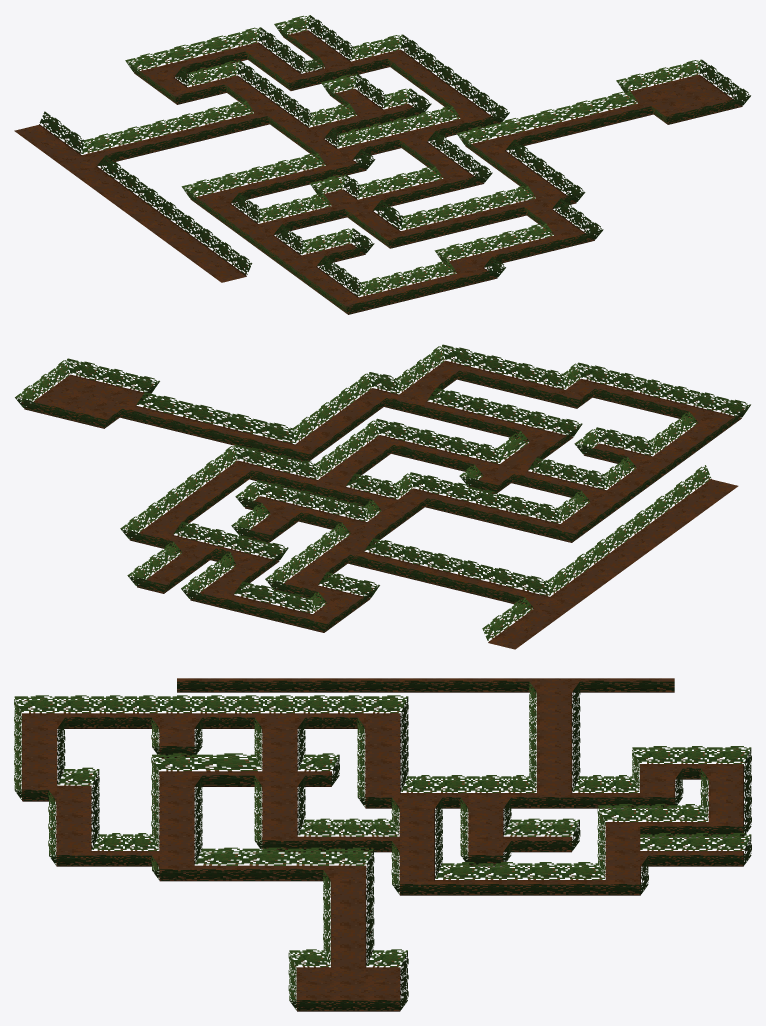
The model's file is maze.glb.
3 renders of one model, top to bottom at view 1: azimuth 30°, elevation 25°; view 2: azimuth 150°, elevation 25°; view 3: azimuth 270°, elevation 25°, orthographic. The views are drawn at different scales.
Parts seen in each view (by area): view 1: maze-col; view 2: maze-col; view 3: maze-col.
Boxes of the visible parts, x1,y1,x2,y2 form: maze-col: [14, 15, 750, 314]; maze-col: [15, 344, 750, 649]; maze-col: [14, 678, 751, 1011].
Size of the model in its own units: 46.49 by 1 by 43.
Materials: 2 (2 with a texture image).
